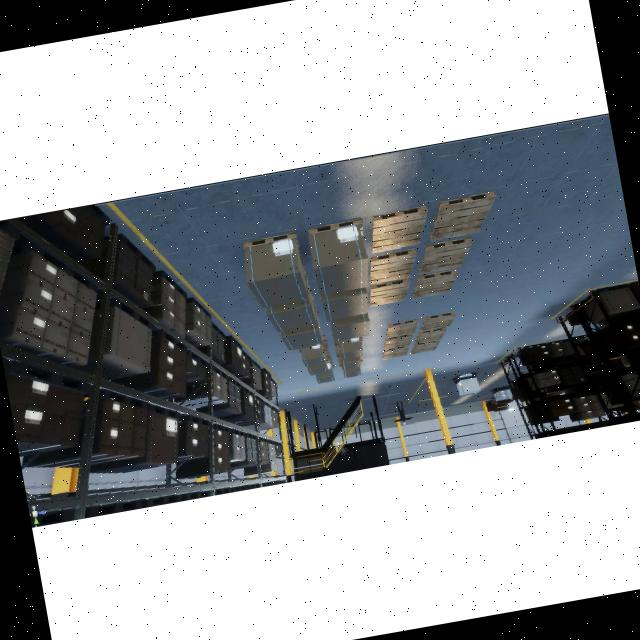wooden_pallet: (429, 192, 495, 241), (370, 205, 427, 253), (243, 232, 305, 267), (418, 236, 473, 274), (368, 248, 416, 284), (412, 269, 459, 299), (368, 278, 410, 307), (308, 219, 363, 239)
